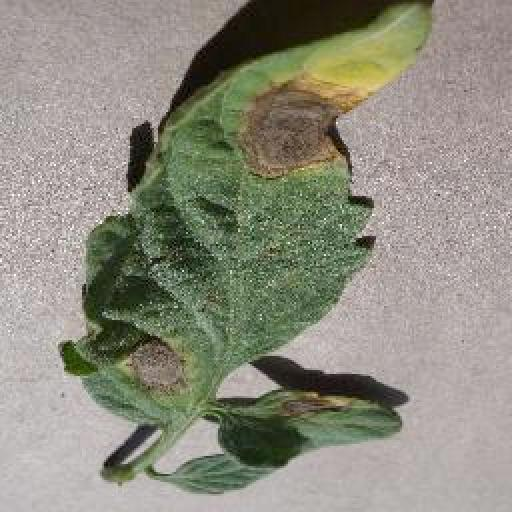disease_tomato: (60, 0, 430, 430)
